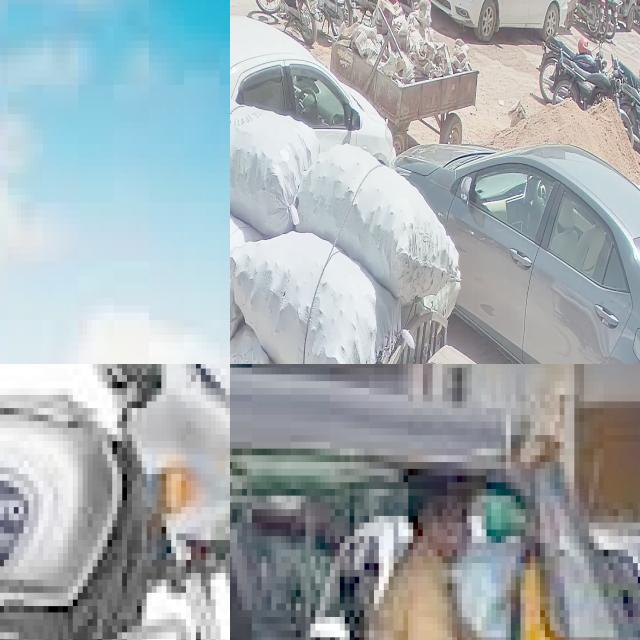bike: (0, 364, 230, 640), (537, 31, 603, 105), (548, 47, 622, 111), (254, 0, 322, 45), (303, 0, 359, 38), (620, 76, 640, 155), (340, 0, 399, 24), (568, 0, 605, 36), (616, 54, 640, 105), (379, 0, 432, 20)
car: (400, 145, 640, 364), (230, 15, 395, 227), (422, 0, 568, 45)
